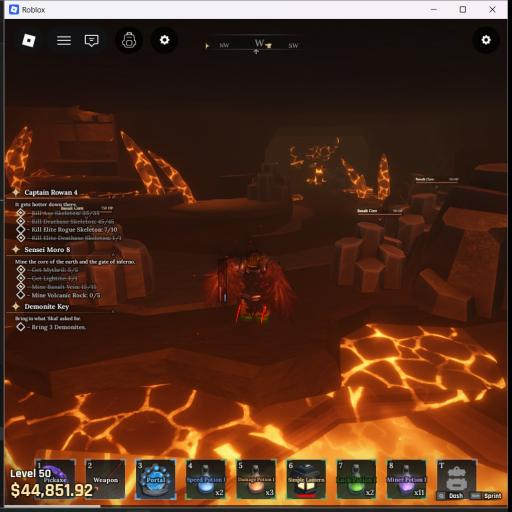player: (226, 249, 299, 323), (203, 265, 222, 306)
rock: (411, 164, 508, 321), (64, 223, 154, 306), (331, 222, 405, 292), (385, 193, 437, 253), (247, 163, 291, 202)
